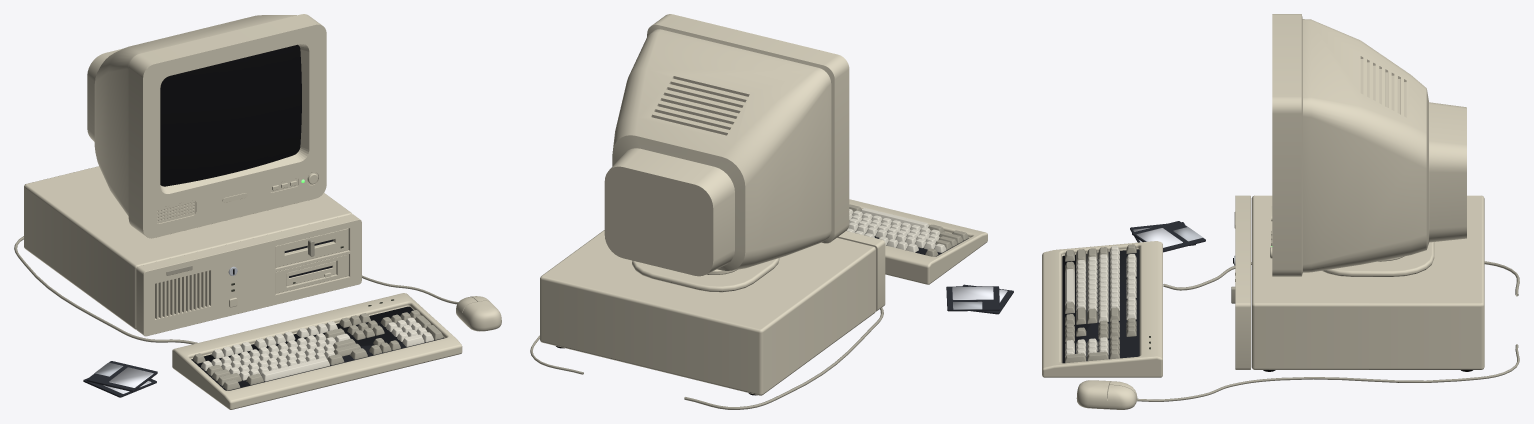
Rendered from crt.glb.
3 renders of one model, left to right at view 1: azimuth 30°, elevation 25°; view 2: azimuth 150°, elevation 25°; view 3: azimuth 270°, elevation 25°, orthographic. The views are drawn at different scales.
Visible parts, largest first — view 1: plastic, screen, keyLight, keyDark, plasticDark, well, cable, floppy, label; view 2: plastic, keyLight, cable, floppy, keyDark, label; view 3: plastic, keyLight, well, keyDark, cable, floppy, label.
Part boxes in pixels (x1,y1,x2,y2): plastic: (24, 14, 501, 409); screen: (160, 44, 301, 186); keyLight: (201, 317, 433, 381); keyDark: (192, 310, 443, 390); plasticDark: (222, 173, 348, 307); well: (191, 239, 444, 390); cable: (14, 236, 458, 344); floppy: (83, 361, 157, 397); label: (103, 367, 153, 393); plastic: (540, 14, 987, 395); keyLight: (846, 208, 946, 252); cable: (530, 307, 883, 409); floppy: (946, 284, 1013, 314); keyDark: (849, 204, 968, 256); label: (952, 286, 1007, 302); plastic: (1042, 14, 1484, 409); keyLight: (1065, 245, 1136, 357); well: (1062, 249, 1233, 363); keyDark: (1065, 244, 1136, 363); cable: (1136, 261, 1519, 401); floppy: (1130, 221, 1205, 252); label: (1133, 227, 1182, 247).
Bounding box in the file's own units: 0.7558 × 0.4985 × 0.8098.
